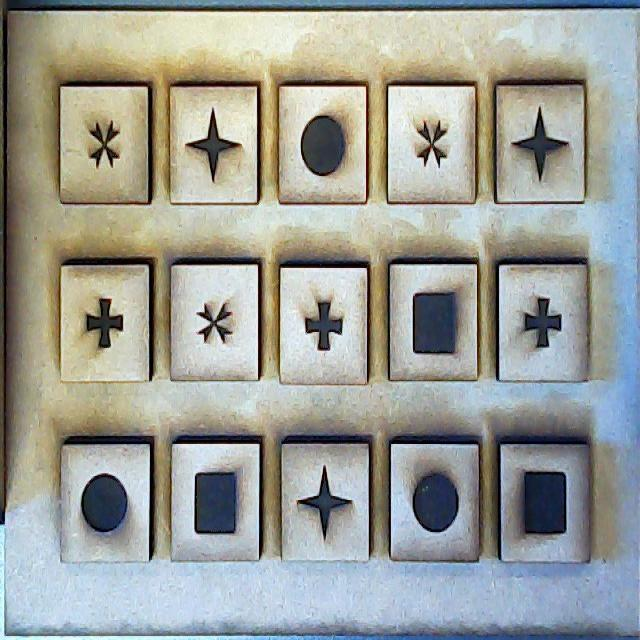circle: (61, 436, 155, 562), (391, 441, 481, 560), (279, 85, 367, 205)
maltese: (60, 85, 153, 205), (387, 85, 479, 204), (170, 258, 261, 378)
square: (172, 440, 262, 560), (391, 264, 478, 384), (504, 445, 584, 558)
star: (282, 435, 373, 562), (168, 88, 262, 208), (498, 84, 588, 206)
temple: (63, 258, 158, 382), (277, 260, 368, 389), (498, 262, 590, 384)
